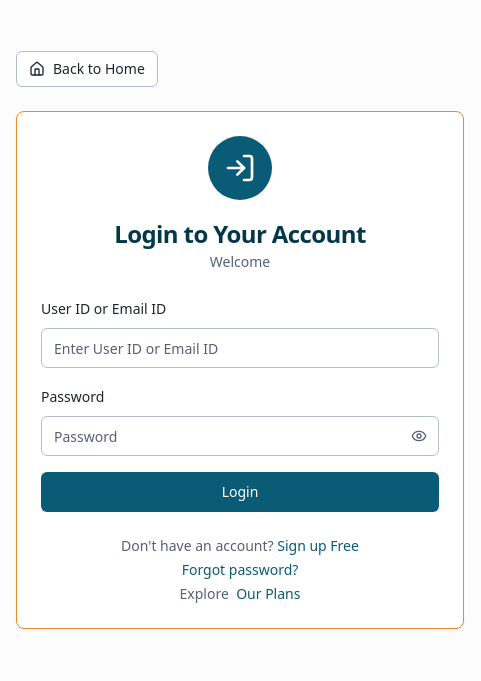
Test: Login — locked account (HTTP 429) › the plain per-IP rate limit (429 without our code) shows the server's message
This screenshot has width=481, height=681.
Type "agent@example.com" into the field with placeholder "Enter User ID or Email ID".
click(240, 348); type("agent@example.com")  # box [41,328,439,368]
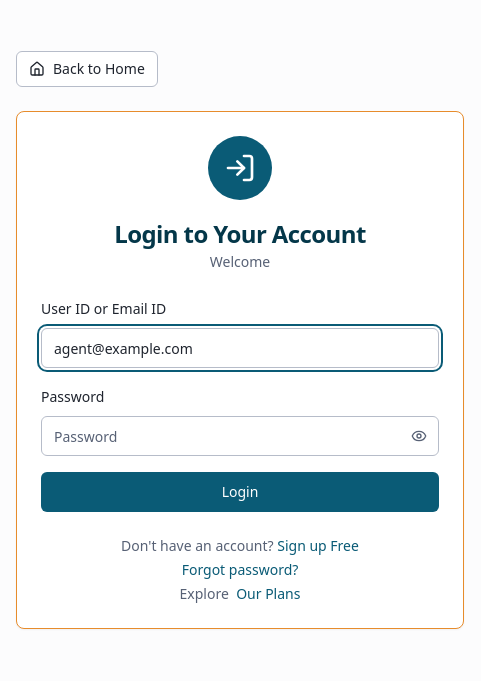
Type "whatever1" into the password field with placeholder "Password".
click(240, 436); type("whatever1")  # box [41,416,439,456]
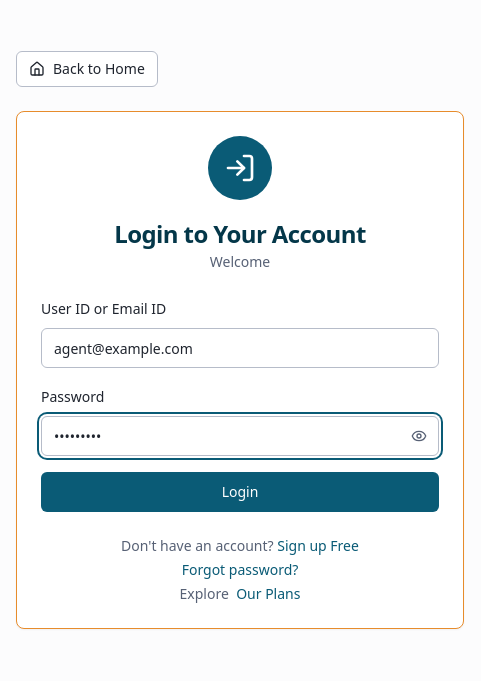
Click the button "Login".
click(240, 492)  # box [41,472,439,512]
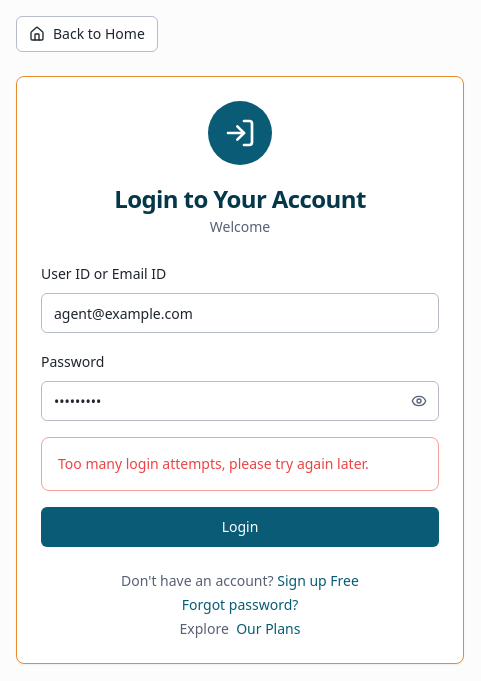
Now the text "Too many login attempts, please try again later." is shown, box [58,454,422,474]
